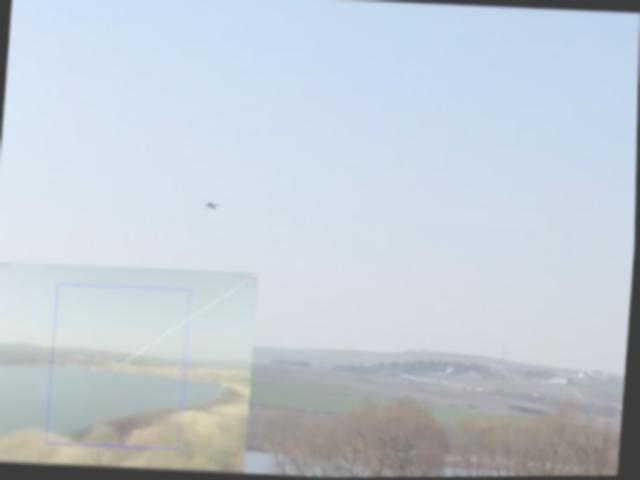uav: (202, 196, 225, 213)
